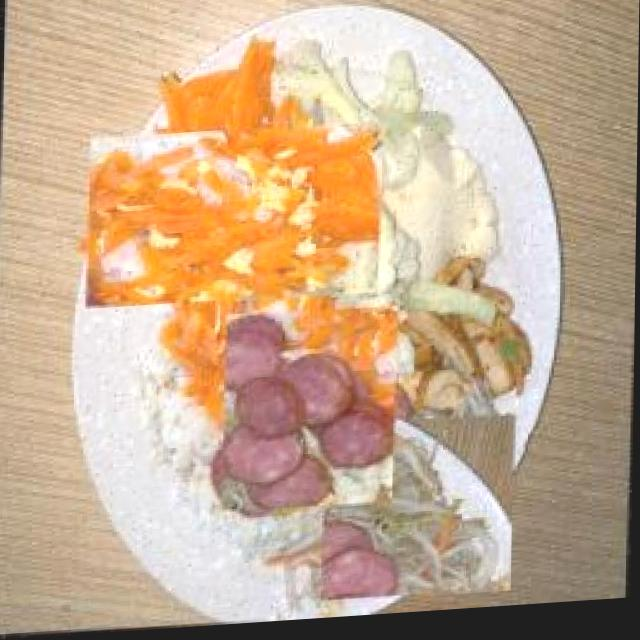carrot_eggs: (116, 94, 354, 342)
chinese_sausage: (216, 314, 406, 511)
mung_bean_sprouts: (325, 416, 515, 611)
rice: (136, 339, 292, 553)
